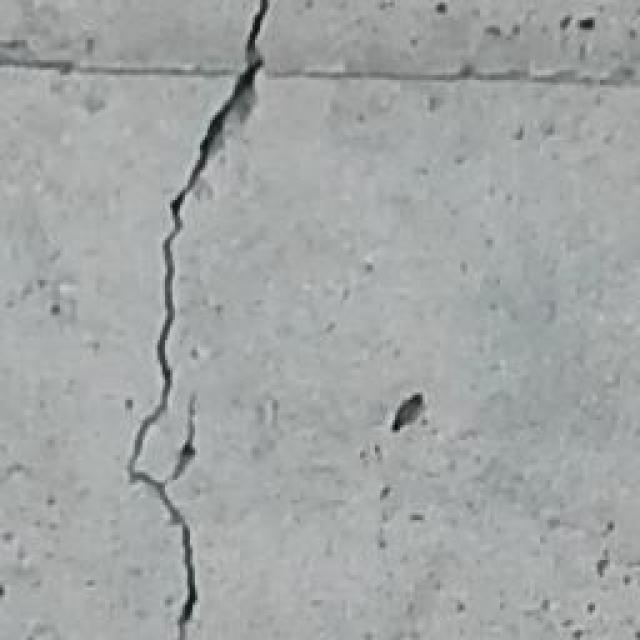concrete-crack: (128, 1, 272, 638), (239, 67, 634, 88), (0, 42, 231, 74), (166, 403, 198, 484), (393, 392, 421, 434)
